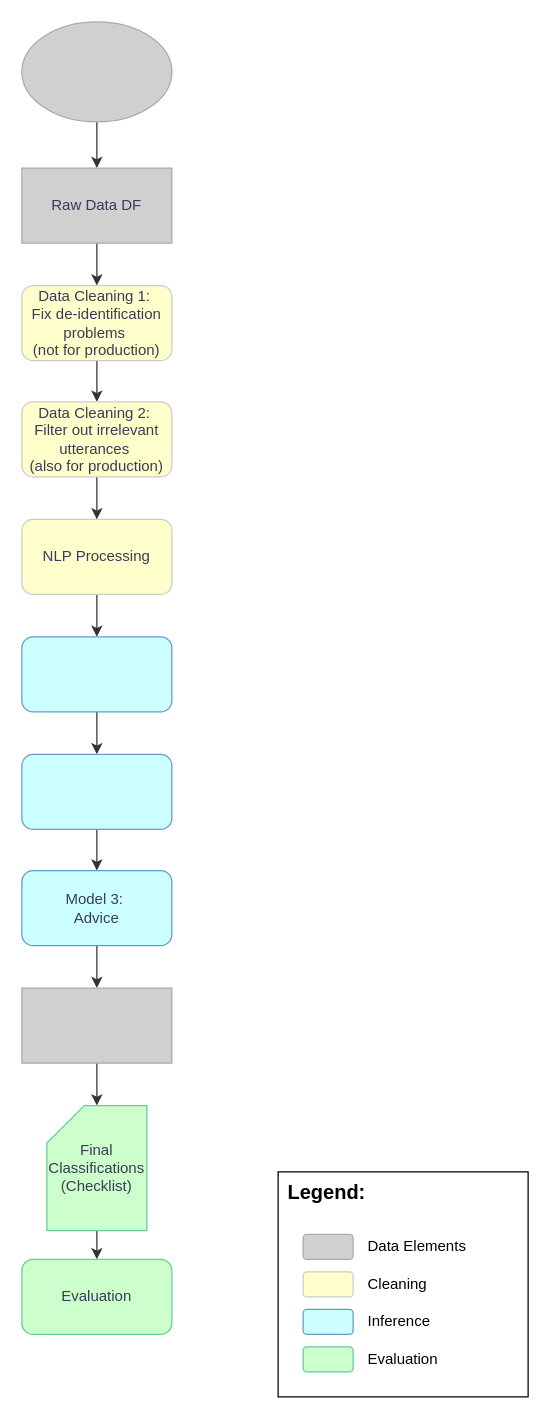
Some shapes in this 550 by 1419 pixel diagram are drawn without their labels. The shapes that lost their labels are listed below. From the top down, each one's centre as x and y in pixels, then its label:
At (96,71): "JSON".
At (96,674): "Model 1: Rule-based".
At (96,791): "Model 2: QA".
At (96,1025): "Classified Utterances DF".
